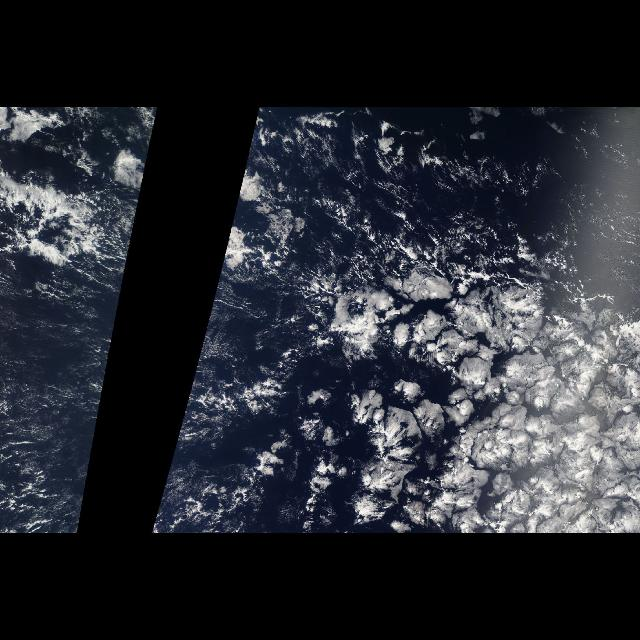Flower: (306, 228, 638, 532)
Sugar: (0, 292, 121, 520)
